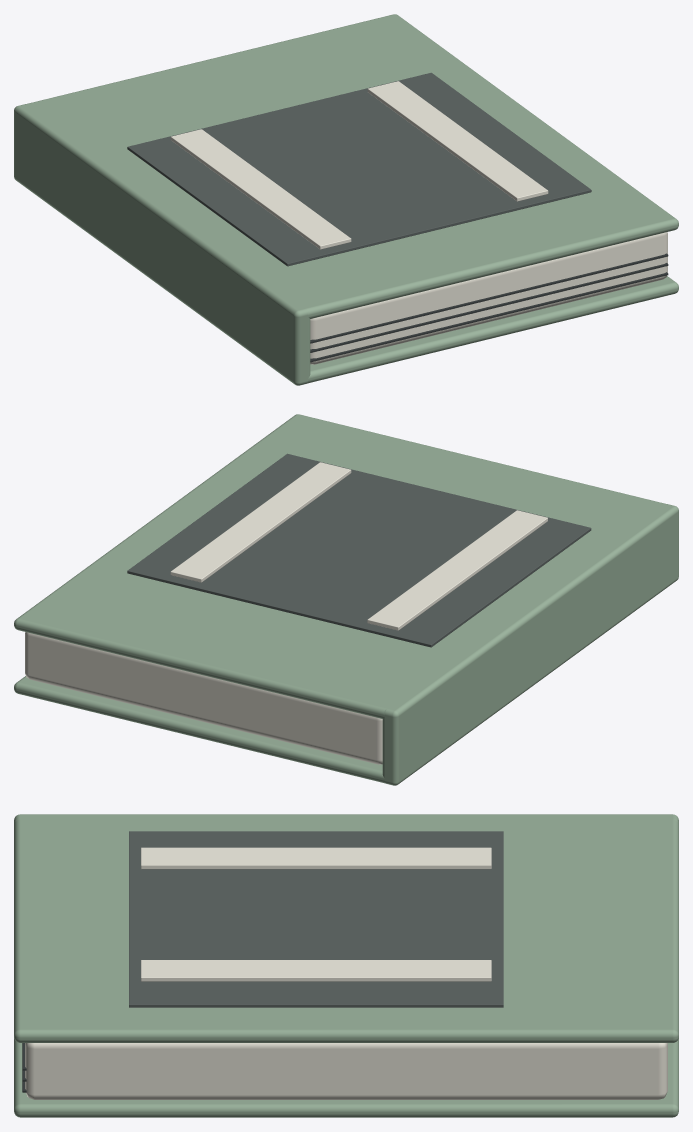
File: public-library-and-reading-garden-public-library-and-r-2bb05add__30930.glb
3 views of the same model, one above another, from view 1: azimuth 30°, elevation 25°; view 2: azimuth 150°, elevation 25°; view 3: azimuth 270°, elevation 25° (orthographic). The views are drawn at different scales.
Parts seen in each view (by area): view 1: public-library-and-reading-garden-large-atlas-volume; view 2: public-library-and-reading-garden-large-atlas-volume; view 3: public-library-and-reading-garden-large-atlas-volume.
Boxes of the visible parts, x1=… form: public-library-and-reading-garden-large-atlas-volume: x1=14, y1=14, x2=678, y2=385; public-library-and-reading-garden-large-atlas-volume: x1=14, y1=414, x2=678, y2=785; public-library-and-reading-garden-large-atlas-volume: x1=14, y1=814, x2=678, y2=1117.
Size of the model in its own units: 0.43 by 0.089 by 0.55.
